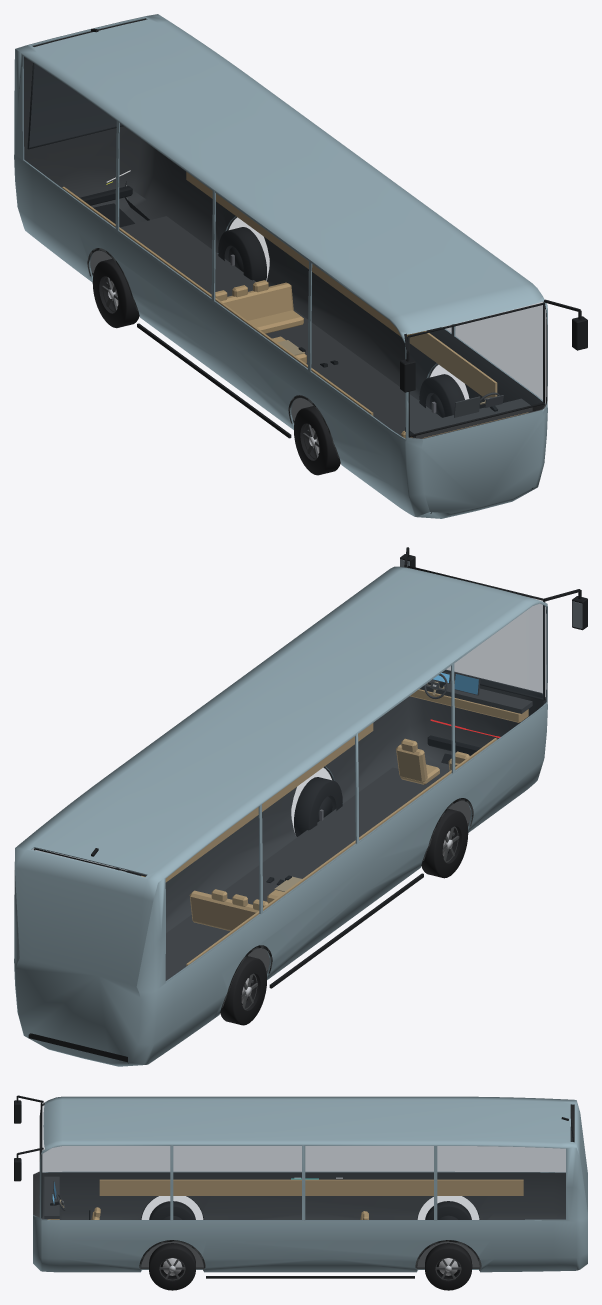
Rendered from training-coach.glb.
The picture shows the model from 3 angles, top to bottom: view 1: azimuth 30°, elevation 25°; view 2: azimuth 150°, elevation 25°; view 3: azimuth 270°, elevation 25°; orthographic projection. The views are drawn at different scales.
Parts seen in each view (by area): view 1: Body, Surface_CarRoot_Glass, Interior_CarRoot_InteriorDark, Interior_CarRoot_InteriorLeather, Surface_CarRoot_BlackTrim, Surface_WheelFrontR_Tyre, Surface_WheelRearR_Tyre, Surface_WheelRearL_Tyre, Surface_WheelFrontL_Tyre; view 2: Body, Surface_CarRoot_Glass, Interior_CarRoot_InteriorDark, Interior_CarRoot_InteriorLeather, Surface_CarRoot_BlackTrim, Surface_WheelRearR_Tyre, Surface_WheelFrontR_Tyre, Surface_WheelFrontL_Tyre; view 3: Body, Surface_CarRoot_Glass, Interior_CarRoot_InteriorLeather, Surface_WheelRearL_Tyre, Surface_WheelFrontL_Tyre, Surface_CarRoot_BlackTrim, Interior_CarRoot_InteriorDark, Surface_WheelFrontR_Tyre, Surface_WheelRearR_Tyre, Surface_CarRoot_Cladding.
Part boxes in pixels (left/top/right/bottom): Body: left=14, top=14, right=547, bottom=518; Surface_CarRoot_Glass: left=23, top=57, right=545, bottom=438; Interior_CarRoot_InteriorDark: left=90, top=216, right=532, bottom=438; Interior_CarRoot_InteriorLeather: left=62, top=172, right=528, bottom=438; Surface_CarRoot_BlackTrim: left=27, top=28, right=587, bottom=513; Surface_WheelFrontR_Tyre: left=294, top=406, right=340, bottom=475; Surface_WheelRearR_Tyre: left=92, top=258, right=139, bottom=328; Surface_WheelRearL_Tyre: left=218, top=227, right=266, bottom=281; Surface_WheelFrontL_Tyre: left=419, top=374, right=464, bottom=417; Body: left=14, top=566, right=547, bottom=1066; Surface_CarRoot_Glass: left=33, top=600, right=547, bottom=981; Interior_CarRoot_InteriorDark: left=165, top=671, right=532, bottom=983; Interior_CarRoot_InteriorLeather: left=141, top=689, right=528, bottom=966; Surface_CarRoot_BlackTrim: left=28, top=547, right=587, bottom=1063; Surface_WheelRearR_Tyre: left=220, top=956, right=266, bottom=1025; Surface_WheelFrontR_Tyre: left=421, top=809, right=468, bottom=878; Surface_WheelFrontL_Tyre: left=294, top=777, right=342, bottom=836; Body: left=33, top=1096, right=587, bottom=1272; Surface_CarRoot_Glass: left=41, top=1106, right=572, bottom=1219; Interior_CarRoot_InteriorLeather: left=47, top=1179, right=523, bottom=1219; Surface_WheelRearL_Tyre: left=425, top=1243, right=472, bottom=1290; Surface_WheelFrontL_Tyre: left=149, top=1243, right=195, bottom=1290; Surface_CarRoot_BlackTrim: left=14, top=1095, right=573, bottom=1278; Interior_CarRoot_InteriorDark: left=44, top=1176, right=480, bottom=1268; Surface_WheelFrontR_Tyre: left=149, top=1201, right=195, bottom=1219; Surface_WheelRearR_Tyre: left=425, top=1201, right=471, bottom=1219; Surface_CarRoot_Cladding: left=139, top=1196, right=481, bottom=1267.
Size of the model in its own units: 3.21 by 3.65 by 12.67.
